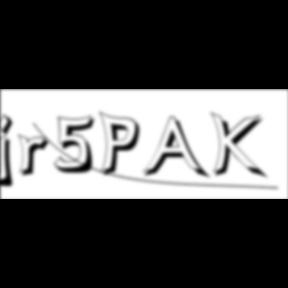5: (54, 114, 101, 176)
A: (142, 116, 212, 182)
K: (210, 110, 270, 182)
P: (100, 110, 146, 180)
j: (1, 113, 22, 191)
r: (18, 134, 56, 180)
